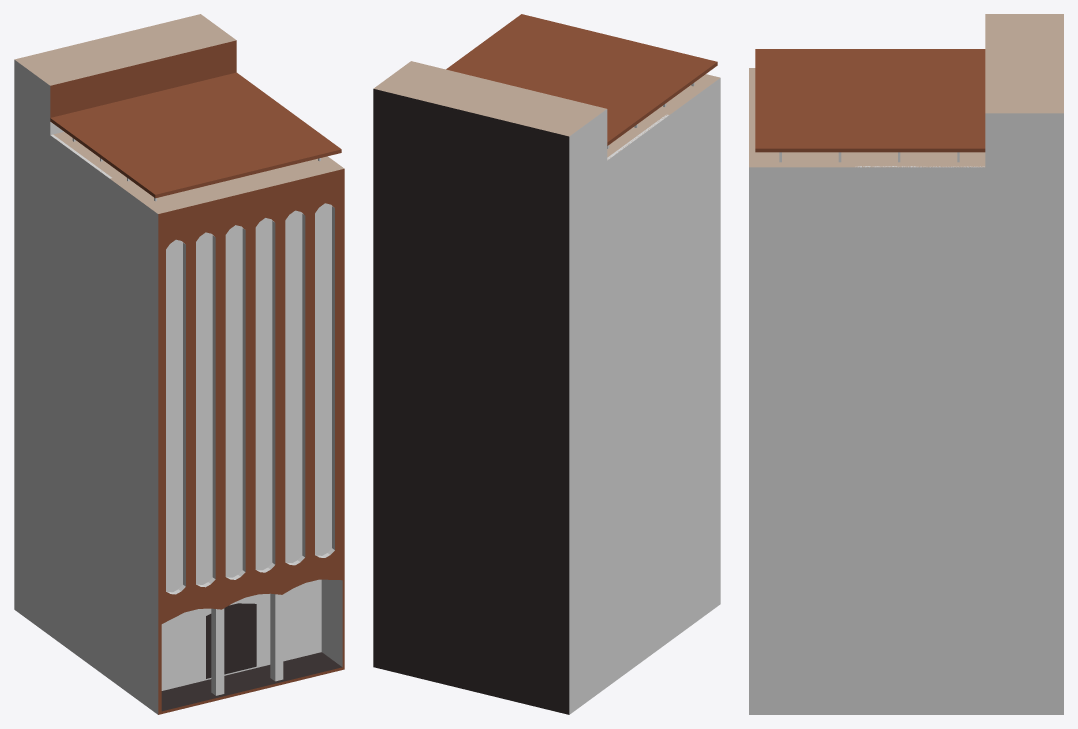
The model's file is predioararas.fbx.
3 renders of one model, left to right at view 1: azimuth 30°, elevation 25°; view 2: azimuth 150°, elevation 25°; view 3: azimuth 270°, elevation 25°, orthographic. The views are drawn at different scales.
Visible parts, largest first — view 1: Cube.001; view 2: Cube.001; view 3: Cube.001.
Part boxes in pixels (bbox=[...]): Cube.001: bbox=[14, 14, 344, 714]; Cube.001: bbox=[373, 14, 720, 714]; Cube.001: bbox=[749, 14, 1063, 714].
Bounding box in the file's own units: 318 × 897 × 425.
